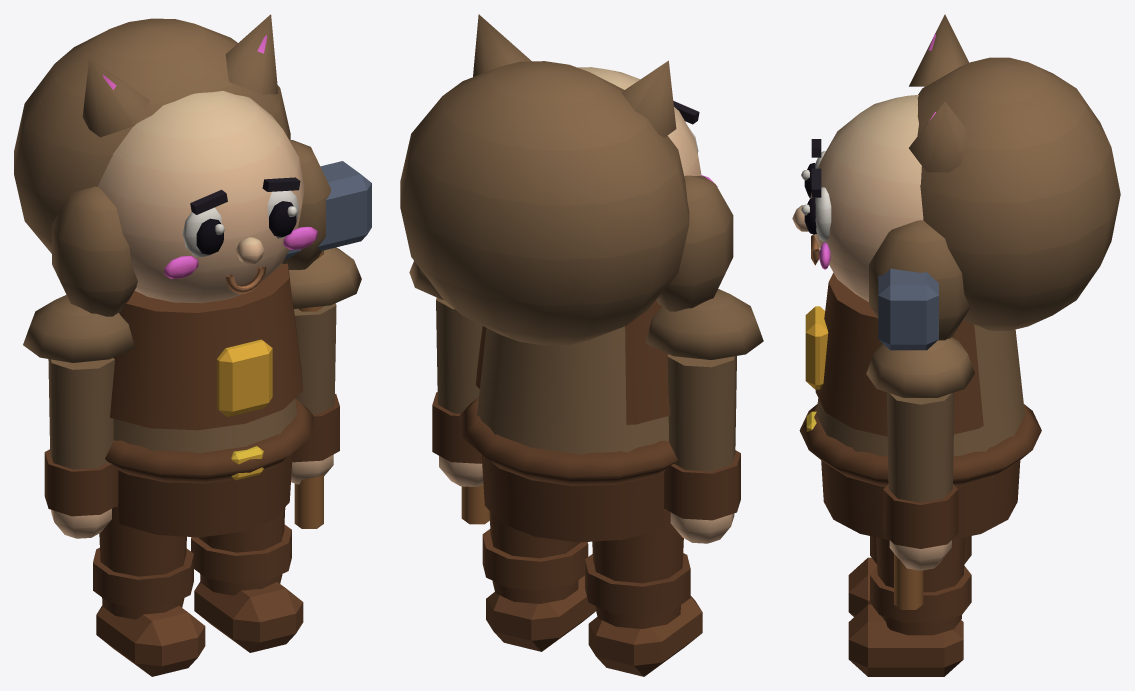
Rendered from hero_bruno.glb.
3 renders of one model, left to right at view 1: azimuth 30°, elevation 25°; view 2: azimuth 150°, elevation 25°; view 3: azimuth 270°, elevation 25°, orthographic. The views are drawn at different scales.
Parts seen in each view (by area): view 1: body_t0_palette, arml_t0_palette, armr_t0_palette, legl_t0_palette, legr_t0_palette; view 2: body_t0_palette, arml_t0_palette, legl_t0_palette, legr_t0_palette, armr_t0_palette; view 3: body_t0_palette, armr_t0_palette, legr_t0_palette, legl_t0_palette.
Part boxes in pixels (x1,y1,x2,y2): body_t0_palette: [14, 14, 330, 537]; arml_t0_palette: [23, 295, 134, 538]; armr_t0_palette: [284, 161, 371, 528]; legl_t0_palette: [93, 506, 205, 676]; legr_t0_palette: [191, 507, 303, 652]; body_t0_palette: [400, 14, 733, 542]; arml_t0_palette: [645, 289, 763, 543]; legl_t0_palette: [585, 509, 702, 676]; legr_t0_palette: [482, 511, 595, 651]; armr_t0_palette: [409, 261, 489, 524]; body_t0_palette: [792, 14, 1120, 539]; armr_t0_palette: [866, 268, 974, 609]; legr_t0_palette: [848, 537, 971, 676]; legl_t0_palette: [848, 536, 971, 616].
Size of the model in its own units: 0.3051 by 0.5344 by 0.271.
